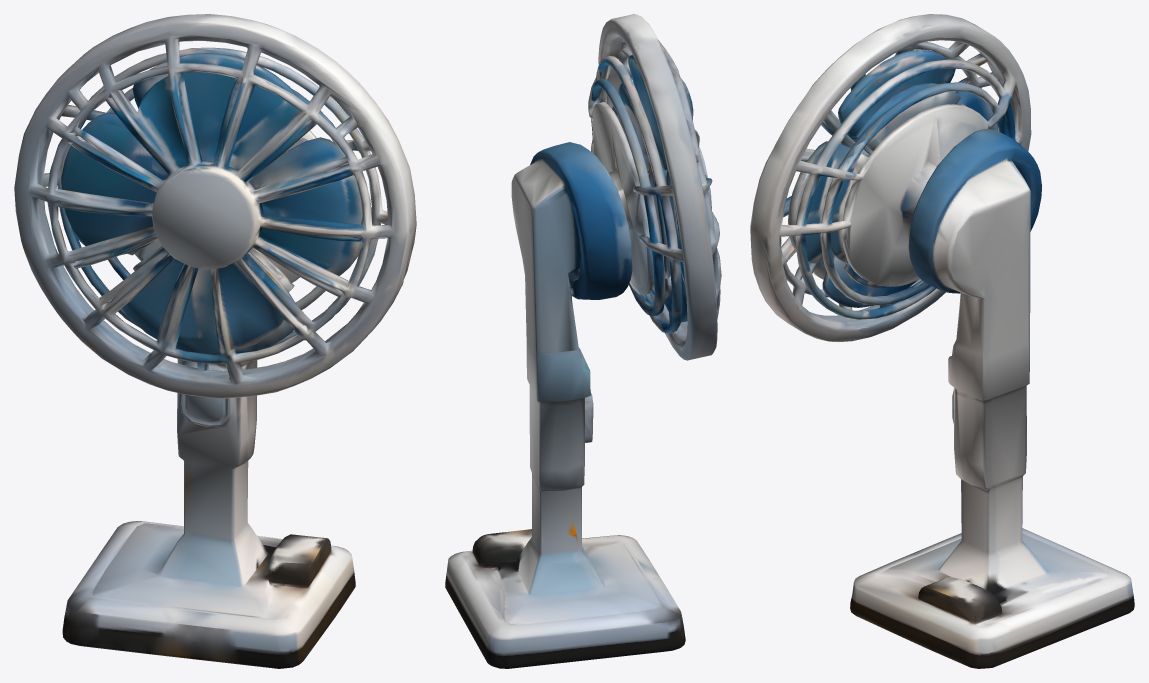
File: fan.fbx
3 views of the same model, side by side, from view 1: azimuth 30°, elevation 25°; view 2: azimuth 150°, elevation 25°; view 3: azimuth 270°, elevation 25° (orthographic). The views are drawn at different scales.
Visible parts, largest first — view 1: node_0.001; view 2: node_0.001; view 3: node_0.001.
Boxes of the visible parts, x1,y1,x2,y2 form: node_0.001: (14,14,416,668); node_0.001: (445,14,721,668); node_0.001: (750,14,1134,668).
Bounding box in the file's own units: 0.278 × 0.5326 × 0.3264.
1 material, 1 textured.
